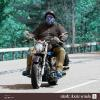motorcycles: (26, 34, 59, 88)
